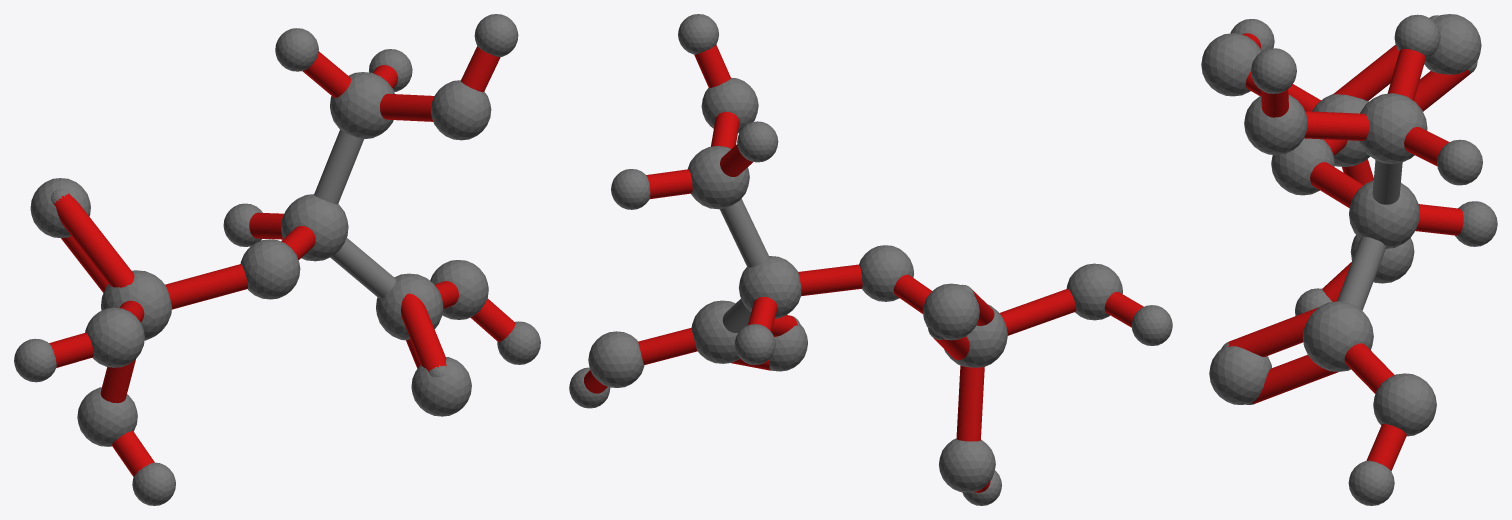
File: phosphoglycerate.obj
3 views of the same model, side by side, from view 1: azimuth 30°, elevation 25°; view 2: azimuth 150°, elevation 25°; view 3: azimuth 270°, elevation 25° (orthographic). The views are drawn at different scales.
Visible parts, largest first — view 1: ShapeIndexedFaceSet_ShapeIndexedFaceSet.001, Shape_ShapeIndexedFaceSet.001, Shape.004_ShapeIndexedFaceSet.001, Shape.009_ShapeIndexedFaceSet.001, Shape.008_ShapeIndexedFaceSet.001, Shape.002_ShapeIndexedFaceSet.001, Shape.005_ShapeIndexedFaceSet.001, Shape.007_ShapeIndexedFaceSet.001, Shape.001_ShapeIndexedFaceSet.001, Shape.003_ShapeIndexedFaceSet.001, Shape.006_ShapeIndexedFaceSet.001, Shape.074_ShapeIndexedFaceSet (+23 smaller); view 2: Shape_ShapeIndexedFaceSet.001, ShapeIndexedFaceSet_ShapeIndexedFaceSet.001, Shape.003_ShapeIndexedFaceSet.001, Shape.006_ShapeIndexedFaceSet.001, Shape.007_ShapeIndexedFaceSet.001, Shape.004_ShapeIndexedFaceSet.001, Shape.008_ShapeIndexedFaceSet.001, Shape.001_ShapeIndexedFaceSet.001, Shape.009_ShapeIndexedFaceSet.001, Shape.005_ShapeIndexedFaceSet.001, Shape.074_ShapeIndexedFaceSet, Shape.011_ShapeIndexedFaceSet.001 (+16 smaller); view 3: Shape.001_ShapeIndexedFaceSet.001, ShapeIndexedFaceSet_ShapeIndexedFaceSet.001, Shape_ShapeIndexedFaceSet.001, Shape.003_ShapeIndexedFaceSet.001, Shape.002_ShapeIndexedFaceSet.001, Shape.008_ShapeIndexedFaceSet.001, Shape.009_ShapeIndexedFaceSet.001, Shape.006_ShapeIndexedFaceSet.001, Shape.004_ShapeIndexedFaceSet.001, ShapeIndexedFaceSet.002_ShapeIndexedFaceSet, Shape.016_ShapeIndexedFaceSet.001, Shape.010_ShapeIndexedFaceSet.001 (+33 smaller).
Part boxes in pixels (x1=…): ShapeIndexedFaceSet_ShapeIndexedFaceSet.001: x1=330, y1=72, x2=394, y2=139; Shape_ShapeIndexedFaceSet.001: x1=281, y1=194, x2=348, y2=261; Shape.004_ShapeIndexedFaceSet.001: x1=240, y1=239, x2=300, y2=299; Shape.009_ShapeIndexedFaceSet.001: x1=431, y1=80, x2=491, y2=140; Shape.008_ShapeIndexedFaceSet.001: x1=85, y1=307, x2=144, y2=367; Shape.002_ShapeIndexedFaceSet.001: x1=411, y1=357, x2=471, y2=416; Shape.005_ShapeIndexedFaceSet.001: x1=101, y1=270, x2=171, y2=340; Shape.007_ShapeIndexedFaceSet.001: x1=77, y1=387, x2=137, y2=446; Shape.001_ShapeIndexedFaceSet.001: x1=376, y1=273, x2=443, y2=340; Shape.003_ShapeIndexedFaceSet.001: x1=430, y1=260, x2=488, y2=319; Shape.006_ShapeIndexedFaceSet.001: x1=30, y1=178, x2=90, y2=238; Shape.074_ShapeIndexedFaceSet: x1=314, y1=130, x2=363, y2=204; Shape_ShapeIndexedFaceSet.001: x1=739, y1=256, x2=801, y2=318; ShapeIndexedFaceSet_ShapeIndexedFaceSet.001: x1=688, y1=146, x2=749, y2=209; Shape.003_ShapeIndexedFaceSet.001: x1=588, y1=331, x2=644, y2=387; Shape.006_ShapeIndexedFaceSet.001: x1=923, y1=283, x2=979, y2=340; Shape.007_ShapeIndexedFaceSet.001: x1=939, y1=438, x2=995, y2=492; Shape.004_ShapeIndexedFaceSet.001: x1=859, y1=245, x2=913, y2=301; Shape.008_ShapeIndexedFaceSet.001: x1=1066, y1=263, x2=1122, y2=320; Shape.001_ShapeIndexedFaceSet.001: x1=691, y1=300, x2=739, y2=363; Shape.009_ShapeIndexedFaceSet.001: x1=701, y1=77, x2=758, y2=133; Shape.005_ShapeIndexedFaceSet.001: x1=944, y1=304, x2=1007, y2=367; Shape.074_ShapeIndexedFaceSet: x1=719, y1=199, x2=769, y2=267; Shape.011_ShapeIndexedFaceSet.001: x1=737, y1=121, x2=778, y2=162; Shape.001_ShapeIndexedFaceSet.001: x1=1302, y1=301, x2=1373, y2=371; ShapeIndexedFaceSet_ShapeIndexedFaceSet.001: x1=1359, y1=93, x2=1427, y2=163; Shape_ShapeIndexedFaceSet.001: x1=1349, y1=180, x2=1419, y2=248; Shape.003_ShapeIndexedFaceSet.001: x1=1373, y1=373, x2=1436, y2=436; Shape.002_ShapeIndexedFaceSet.001: x1=1209, y1=346, x2=1271, y2=404; Shape.008_ShapeIndexedFaceSet.001: x1=1201, y1=33, x2=1261, y2=96; Shape.009_ShapeIndexedFaceSet.001: x1=1244, y1=95, x2=1307, y2=155; Shape.006_ShapeIndexedFaceSet.001: x1=1424, y1=14, x2=1481, y2=74; Shape.004_ShapeIndexedFaceSet.001: x1=1271, y1=138, x2=1334, y2=195; ShapeIndexedFaceSet.002_ShapeIndexedFaceSet: x1=1337, y1=236, x2=1386, y2=310; Shape.016_ShapeIndexedFaceSet.001: x1=1251, y1=48, x2=1296, y2=93; Shape.010_ShapeIndexedFaceSet.001: x1=1437, y1=139, x2=1482, y2=185.
Size of the model in its own units: 77.06 by 54.13 by 32.55.
